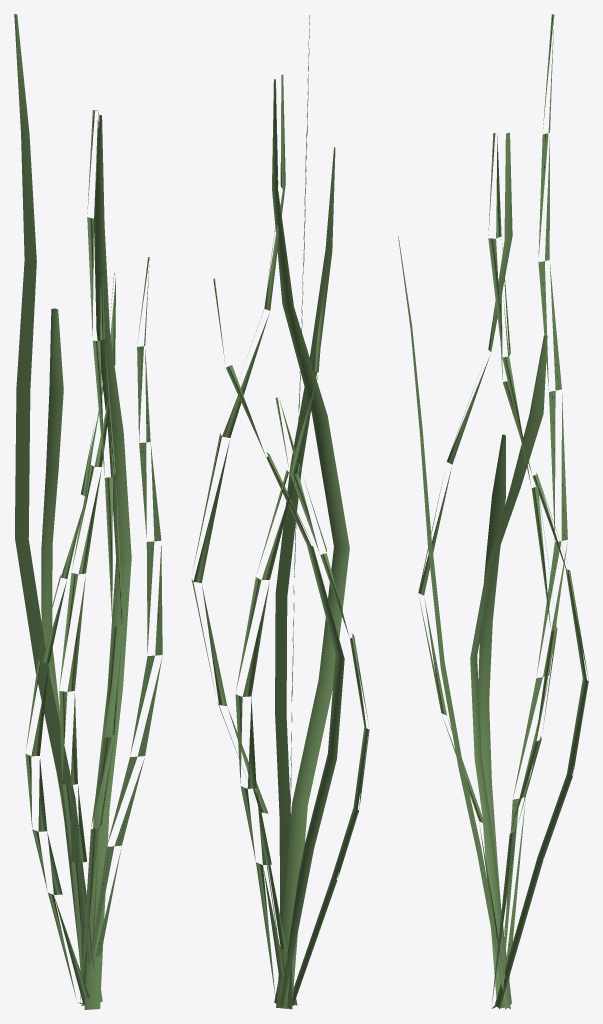
The model's file is kelp-2.glb.
3 views of the same model, side by side, from view 1: azimuth 30°, elevation 25°; view 2: azimuth 150°, elevation 25°; view 3: azimuth 270°, elevation 25° (orthographic). The views are drawn at different scales.
Parts seen in each view (by area): view 1: node_id71; view 2: node_id71; view 3: node_id71.
Boxes of the visible parts, <box> form: node_id71: <box>14,14,162,1009</box>; node_id71: <box>191,15,369,1009</box>; node_id71: <box>398,14,588,1009</box>.
Bounding box in the file's own units: 1.47 × 10.08 × 1.8.
